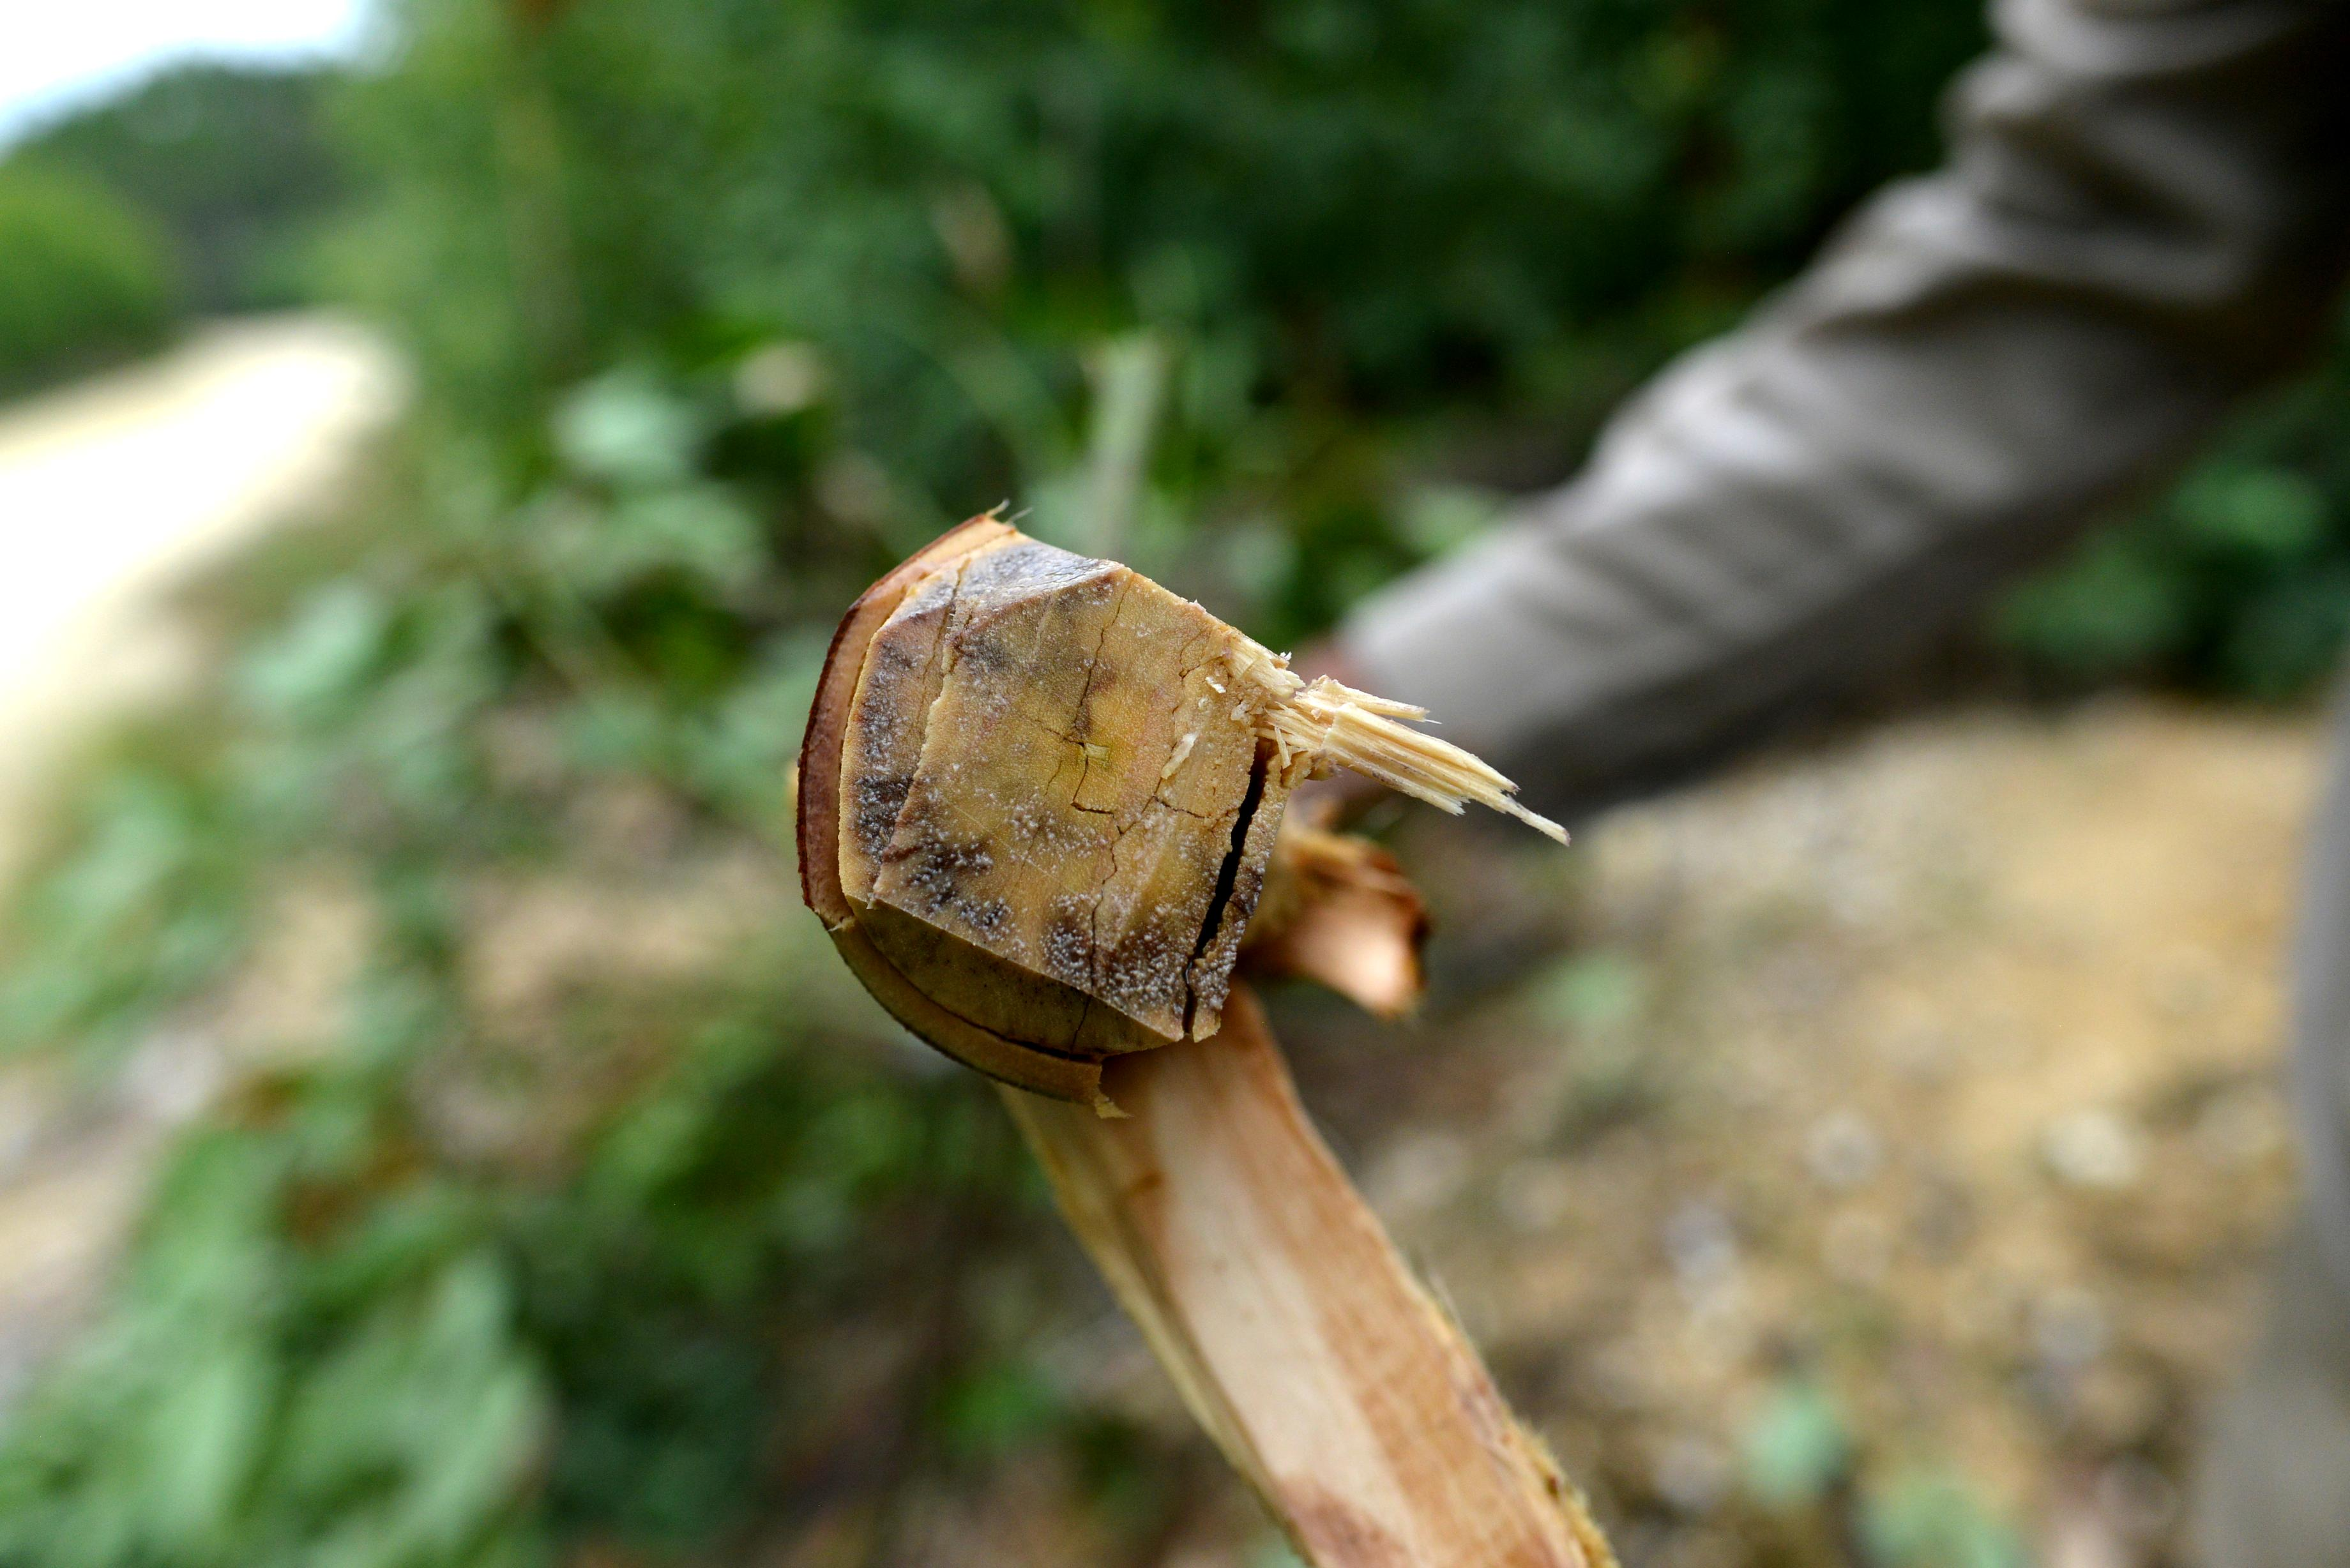Ralstonia: (863, 663, 1250, 1022), (888, 534, 1134, 643)
